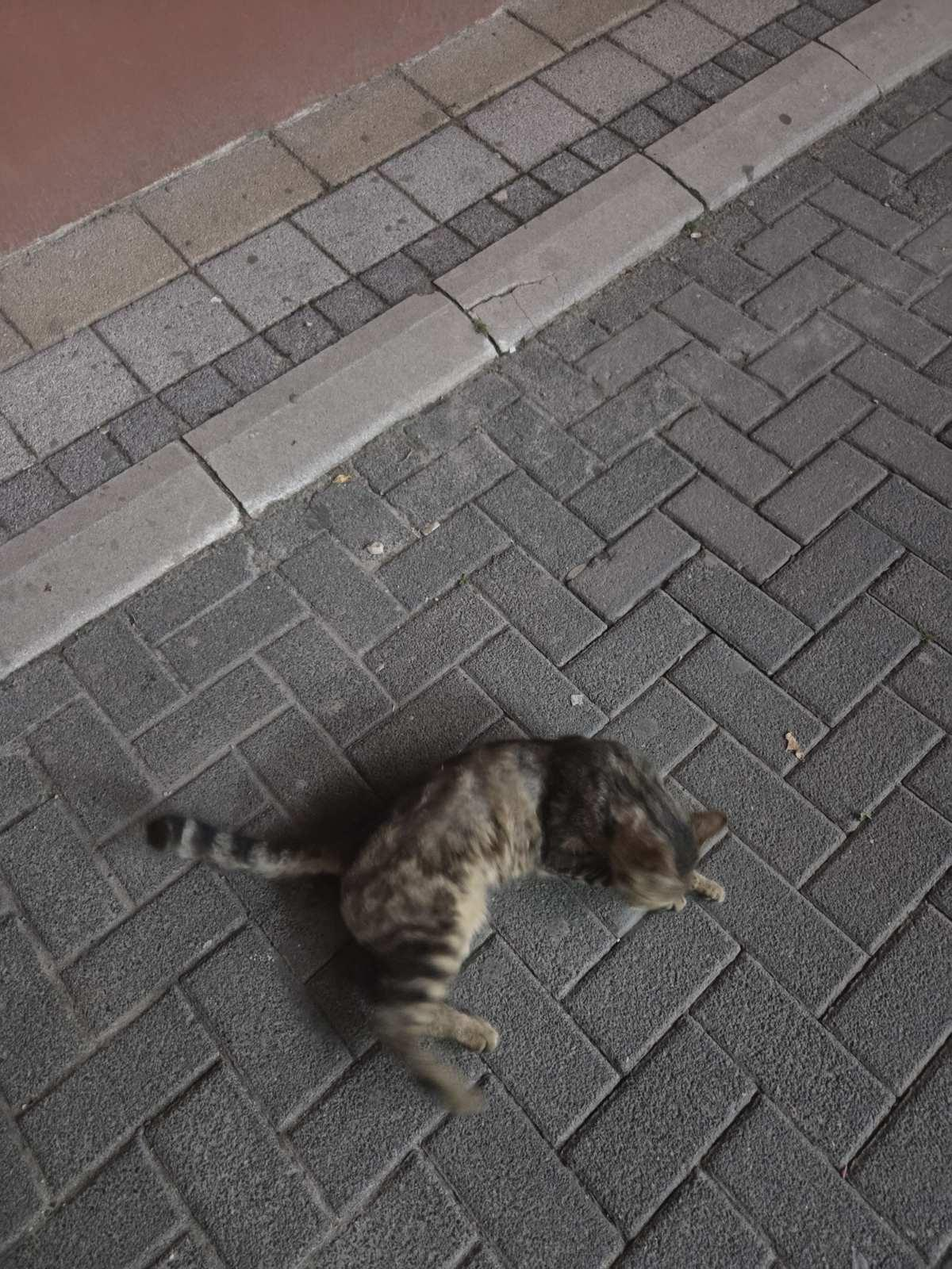macka: (148, 735, 732, 1116)
